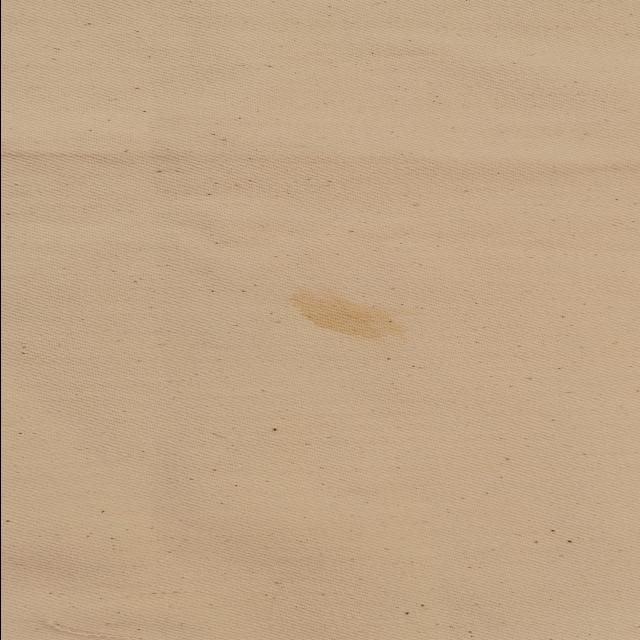taaaches: (277, 288, 416, 344)
